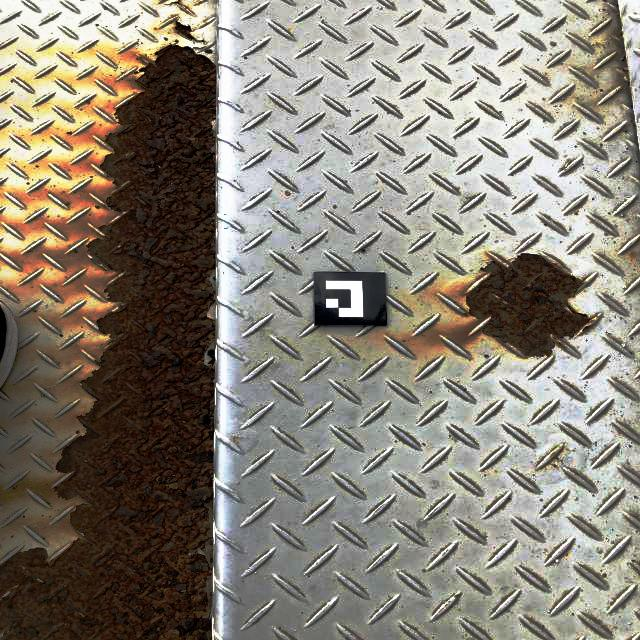Corrosion: (0, 46, 216, 640), (466, 253, 602, 359), (172, 19, 207, 43)
